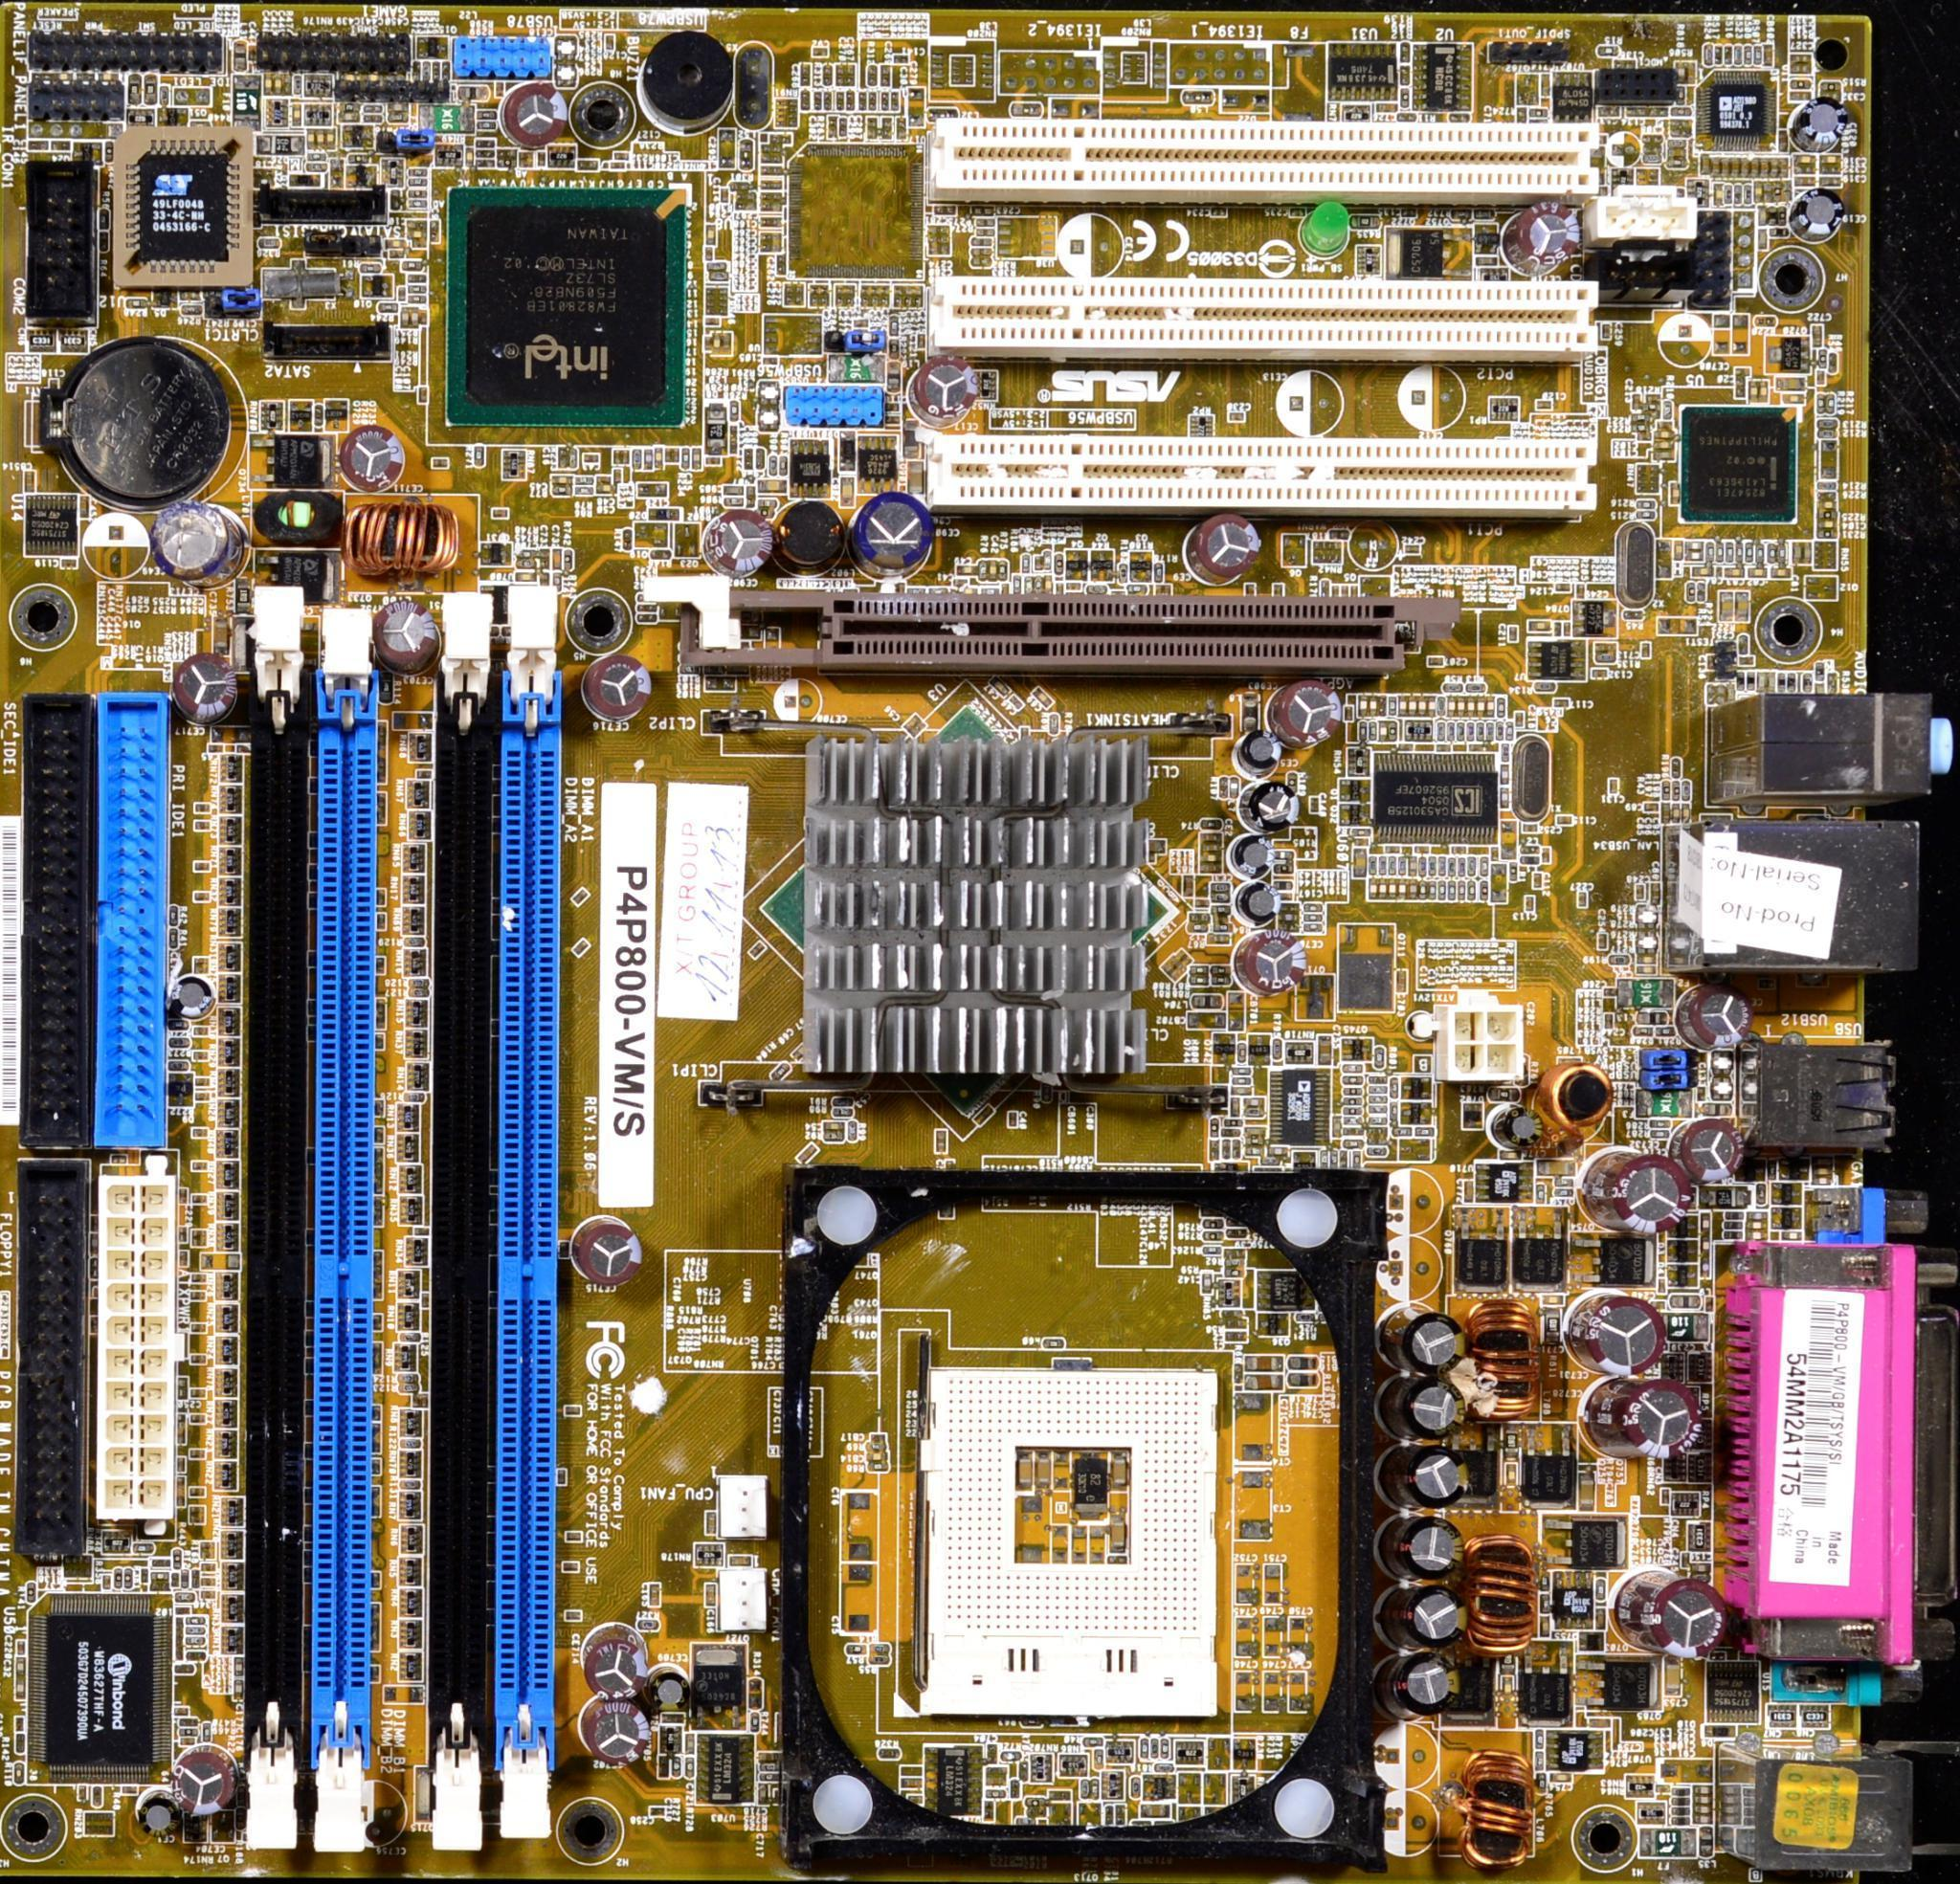Capacitor: (1245, 1355, 1283, 1371), (1239, 1374, 1278, 1390), (900, 715, 932, 734), (1665, 1657, 1682, 1695), (1029, 687, 1058, 707), (985, 676, 1012, 696), (1318, 1035, 1330, 1066), (704, 1506, 717, 1535), (755, 480, 786, 491), (1006, 697, 1022, 715), (1549, 1770, 1572, 1783), (703, 1583, 715, 1607), (880, 64, 892, 87), (705, 223, 718, 244), (880, 117, 892, 139), (411, 307, 422, 329), (730, 1555, 754, 1565), (326, 128, 338, 149), (650, 1581, 660, 1604), (685, 1730, 696, 1753), (79, 495, 90, 518), (799, 63, 810, 86), (649, 1581, 658, 1606), (957, 565, 979, 575), (386, 102, 410, 112), (642, 447, 652, 471), (234, 1679, 244, 1700), (291, 102, 301, 125), (398, 304, 408, 327), (1463, 1179, 1472, 1204), (386, 237, 406, 248), (867, 117, 877, 139), (514, 572, 538, 581), (822, 1120, 843, 1130), (896, 118, 905, 139), (15, 1654, 26, 1673), (1402, 543, 1421, 553), (59, 558, 78, 568), (1200, 1274, 1212, 1292), (557, 445, 566, 468), (1477, 694, 1485, 717), (54, 72, 77, 80), (306, 128, 316, 148), (1614, 58, 1634, 68), (1578, 890, 1589, 908), (409, 230, 427, 240), (958, 584, 976, 594), (1427, 655, 1445, 666), (1651, 881, 1659, 906), (972, 207, 994, 215), (552, 547, 561, 569), (275, 72, 283, 94), (650, 1805, 666, 1816), (1320, 1148, 1329, 1167), (846, 62, 854, 86), (1342, 1139, 1363, 1147), (692, 448, 701, 469), (835, 63, 843, 84), (339, 74, 360, 82), (785, 282, 792, 305), (794, 282, 802, 305), (1506, 626, 1518, 641), (1358, 694, 1366, 717), (1231, 775, 1238, 798), (1189, 910, 1209, 919), (550, 474, 570, 482), (1127, 585, 1147, 593), (1408, 854, 1416, 875), (1229, 411, 1245, 422), (1608, 777, 1618, 793), (1557, 813, 1573, 824), (1368, 877, 1375, 899), (337, 112, 359, 120), (1448, 695, 1456, 717), (1635, 883, 1644, 900), (464, 147, 473, 166), (234, 1654, 243, 1673), (16, 1679, 25, 1698), (263, 74, 272, 93), (1378, 877, 1386, 898), (318, 128, 325, 149), (759, 1752, 780, 1760), (812, 46, 827, 56), (1409, 878, 1417, 897), (758, 1784, 767, 1803), (180, 291, 198, 299), (1210, 208, 1226, 217), (1553, 697, 1570, 706), (822, 284, 830, 304), (1467, 694, 1475, 714), (1661, 801, 1669, 821), (584, 452, 598, 462), (1592, 668, 1606, 678), (1526, 894, 1534, 911), (1398, 879, 1406, 898), (1682, 803, 1690, 822), (829, 116, 835, 137), (1399, 694, 1406, 715), (1370, 695, 1376, 716), (1644, 802, 1658, 812), (871, 1432, 887, 1441), (1417, 696, 1425, 714), (1673, 804, 1681, 822), (656, 447, 661, 471), (724, 485, 744, 492), (1288, 208, 1303, 216), (1344, 705, 1351, 722), (98, 74, 121, 79), (27, 471, 33, 490), (1428, 696, 1435, 715), (596, 486, 612, 494), (1515, 711, 1523, 727), (1523, 824, 1537, 832), (1388, 880, 1394, 898), (869, 1453, 887, 1460), (868, 1463, 886, 1470), (1487, 696, 1493, 717), (598, 473, 611, 482), (493, 508, 508, 516), (1533, 873, 1540, 890), (1459, 695, 1464, 715), (811, 286, 816, 305), (991, 560, 996, 579), (1409, 696, 1414, 715), (367, 75, 382, 81), (17, 1636, 22, 1657), (775, 234, 781, 251), (1598, 934, 1605, 947), (176, 1707, 188, 1714)
Connector: (4, 676, 112, 1156), (10, 1148, 104, 1573), (20, 160, 107, 336), (8, 17, 241, 79), (250, 11, 445, 75), (18, 79, 127, 126)
IC: (1697, 77, 1776, 153), (1268, 1067, 1331, 1146), (697, 1731, 758, 1806), (1327, 44, 1396, 101), (1417, 40, 1473, 107), (26, 494, 77, 555), (1550, 1731, 1607, 1769), (1340, 778, 1369, 800)
Resistor: (747, 1675, 763, 1708), (1008, 104, 1044, 115), (397, 259, 423, 272), (124, 299, 150, 311), (844, 1642, 867, 1655), (179, 304, 203, 316), (798, 89, 810, 112), (1374, 1046, 1386, 1069), (1209, 976, 1234, 986), (829, 1096, 854, 1106), (1217, 777, 1228, 802), (637, 1618, 659, 1629), (473, 445, 484, 467), (1596, 45, 1618, 56), (622, 527, 633, 551), (635, 602, 659, 612), (1203, 1230, 1223, 1243), (1212, 963, 1230, 976), (104, 140, 115, 163), (748, 1711, 760, 1732), (1463, 681, 1486, 692), (672, 1754, 682, 1776), (977, 557, 988, 579), (723, 497, 746, 506), (1274, 865, 1298, 875), (1656, 1025, 1674, 1037), (1188, 974, 1209, 985), (1440, 680, 1461, 691), (835, 89, 845, 112), (150, 1568, 169, 1580), (648, 549, 671, 559), (114, 1564, 122, 1589), (1303, 921, 1323, 932), (1633, 1026, 1653, 1036), (1209, 1118, 1219, 1138), (847, 1119, 857, 1140), (1536, 1770, 1547, 1790), (1534, 681, 1554, 692), (475, 121, 497, 130), (830, 1107, 854, 1116), (968, 246, 991, 255), (635, 615, 658, 624), (1226, 1269, 1242, 1281), (1271, 1037, 1281, 1058), (124, 1566, 135, 1585), (14, 1761, 24, 1782), (1623, 610, 1644, 619), (1201, 819, 1222, 829), (1417, 855, 1427, 876), (1479, 855, 1488, 876), (1608, 955, 1631, 964), (1437, 695, 1445, 718), (1390, 1101, 1399, 1121), (1223, 1118, 1243, 1127), (477, 110, 497, 120), (1204, 1218, 1224, 1228), (1201, 1245, 1221, 1254), (1534, 1726, 1544, 1746), (999, 1750, 1019, 1760), (986, 1789, 1006, 1799), (552, 485, 572, 495), (822, 92, 833, 110), (262, 237, 280, 248), (564, 549, 571, 574), (1468, 878, 1477, 900), (1342, 1086, 1364, 1095), (823, 64, 832, 86), (1212, 923, 1231, 933), (868, 64, 876, 88), (1368, 854, 1377, 874), (1303, 911, 1320, 921), (1190, 922, 1207, 933), (998, 557, 1007, 578), (1438, 720, 1447, 741), (1683, 781, 1692, 802), (686, 1755, 694, 1778), (1704, 43, 1712, 66), (1043, 575, 1053, 593), (28, 1581, 36, 1601), (408, 286, 428, 295), (517, 558, 537, 566), (1192, 964, 1209, 974), (880, 90, 888, 112), (1342, 1108, 1364, 1116), (1671, 756, 1679, 778), (1229, 1067, 1254, 1074), (782, 454, 789, 478), (823, 1131, 842, 1140), (973, 236, 992, 245), (574, 476, 593, 484), (553, 573, 562, 592), (1480, 880, 1487, 901), (846, 90, 854, 111), (1237, 1041, 1245, 1062), (1303, 902, 1322, 911), (869, 92, 878, 110), (409, 294, 427, 302), (892, 55, 910, 64), (1486, 720, 1495, 739), (1027, 1797, 1043, 1806), (1458, 880, 1465, 900), (1392, 1075, 1398, 1098), (1714, 44, 1722, 64), (1745, 43, 1751, 66), (1662, 780, 1670, 800), (1388, 854, 1395, 875), (1458, 855, 1465, 876), (1246, 1137, 1263, 1145), (873, 1644, 890, 1652), (1230, 1076, 1252, 1083), (1342, 1097, 1364, 1104), (969, 258, 991, 265), (1498, 696, 1504, 718), (1437, 879, 1445, 898), (890, 91, 898, 110), (568, 448, 576, 467), (768, 454, 776, 474), (1497, 721, 1504, 741), (1466, 721, 1474, 741), (1725, 44, 1731, 65), (1447, 720, 1454, 741), (1673, 780, 1680, 801), (1013, 574, 1022, 590), (873, 1656, 891, 1664), (516, 549, 534, 557), (178, 1729, 202, 1735), (1212, 907, 1232, 914), (859, 92, 866, 112), (174, 1548, 181, 1568), (407, 190, 427, 197), (839, 118, 847, 135), (1535, 1748, 1543, 1765), (1448, 856, 1456, 874), (867, 1442, 886, 1449), (204, 1721, 211, 1740), (1477, 721, 1483, 741), (1380, 854, 1387, 874), (1398, 855, 1405, 875), (682, 447, 688, 469), (1505, 719, 1511, 741), (1468, 854, 1474, 876), (1428, 880, 1435, 898), (574, 486, 592, 493), (1458, 721, 1464, 740), (1735, 44, 1741, 65), (1438, 856, 1444, 877), (732, 401, 738, 421), (1754, 44, 1760, 64), (1429, 856, 1435, 876), (1449, 880, 1455, 899), (1419, 880, 1425, 899), (761, 1763, 779, 1769), (759, 500, 777, 506), (1152, 1736, 1157, 1757), (758, 1773, 778, 1778), (976, 228, 991, 233)
Transistor: (1370, 753, 1500, 834), (1401, 1074, 1433, 1100), (1341, 1036, 1373, 1061), (1233, 1737, 1258, 1769), (1257, 1313, 1289, 1336), (1402, 1101, 1432, 1126), (324, 399, 348, 430), (1212, 1034, 1236, 1064), (415, 36, 449, 57), (362, 276, 392, 299), (1338, 806, 1371, 825), (1095, 551, 1117, 580), (1066, 549, 1088, 577), (290, 403, 312, 430), (1250, 1035, 1270, 1062), (1132, 551, 1152, 578)
